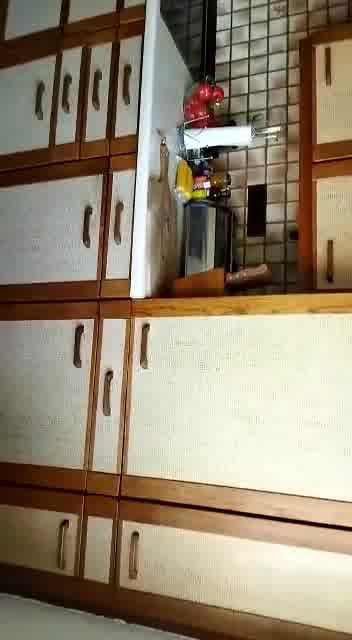cabinet_door: (124, 313, 352, 507), (118, 511, 352, 636), (0, 301, 105, 488), (1, 161, 104, 302), (0, 487, 86, 602), (91, 299, 130, 495), (304, 159, 352, 291), (0, 54, 54, 161), (303, 39, 352, 154), (104, 159, 136, 300), (112, 25, 143, 160), (83, 30, 112, 157), (58, 39, 83, 159)
handle: (123, 521, 148, 588), (314, 39, 343, 94), (63, 318, 89, 373), (319, 234, 343, 293), (96, 364, 120, 423), (115, 55, 138, 111), (52, 514, 73, 575), (88, 59, 109, 119), (76, 196, 97, 252), (106, 194, 126, 252), (138, 314, 156, 374), (30, 75, 49, 124), (60, 64, 74, 126)
